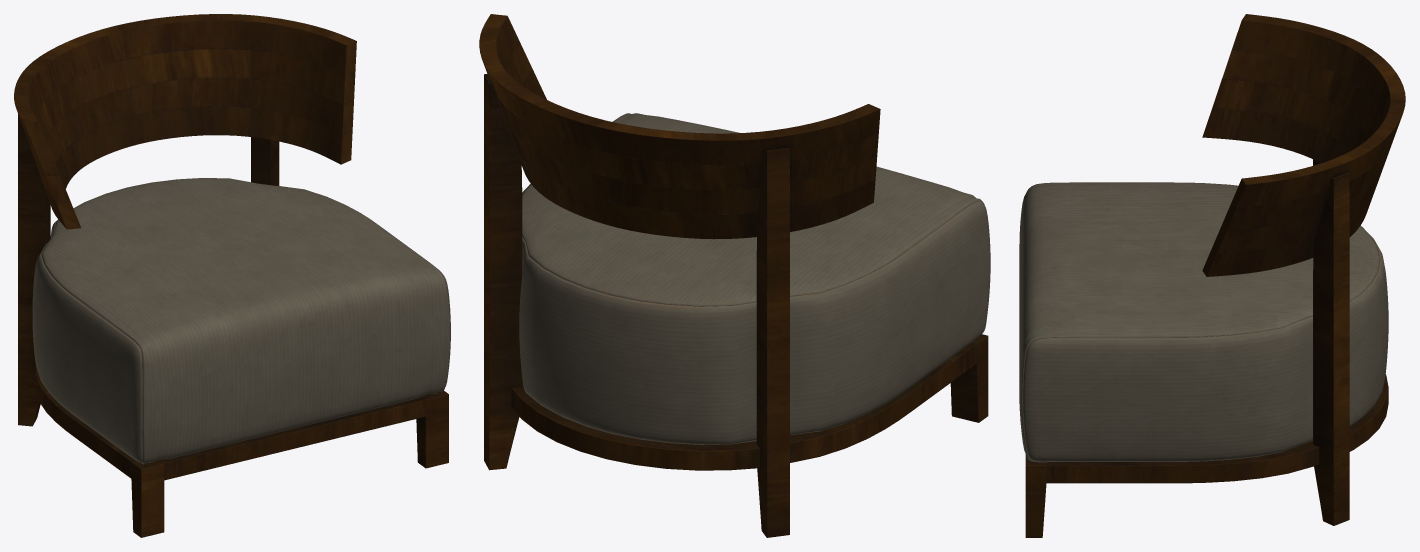
Rendered from modern-chair.glb.
3 renders of one model, left to right at view 1: azimuth 30°, elevation 25°; view 2: azimuth 150°, elevation 25°; view 3: azimuth 270°, elevation 25°, orthographic. The views are drawn at different scales.
Visible parts, largest first — view 1: Chair; view 2: Chair; view 3: Chair.
Boxes of the visible parts, x1=… form: Chair: x1=14, y1=14, x2=450, y2=537; Chair: x1=479, y1=14, x2=990, y2=537; Chair: x1=1019, y1=14, x2=1405, y2=537.
Size of the model in its own units: 0.3022 by 0.2967 by 0.289.
1 material, 1 textured.
